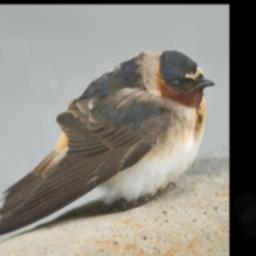Swallow: (0, 45, 217, 247)
